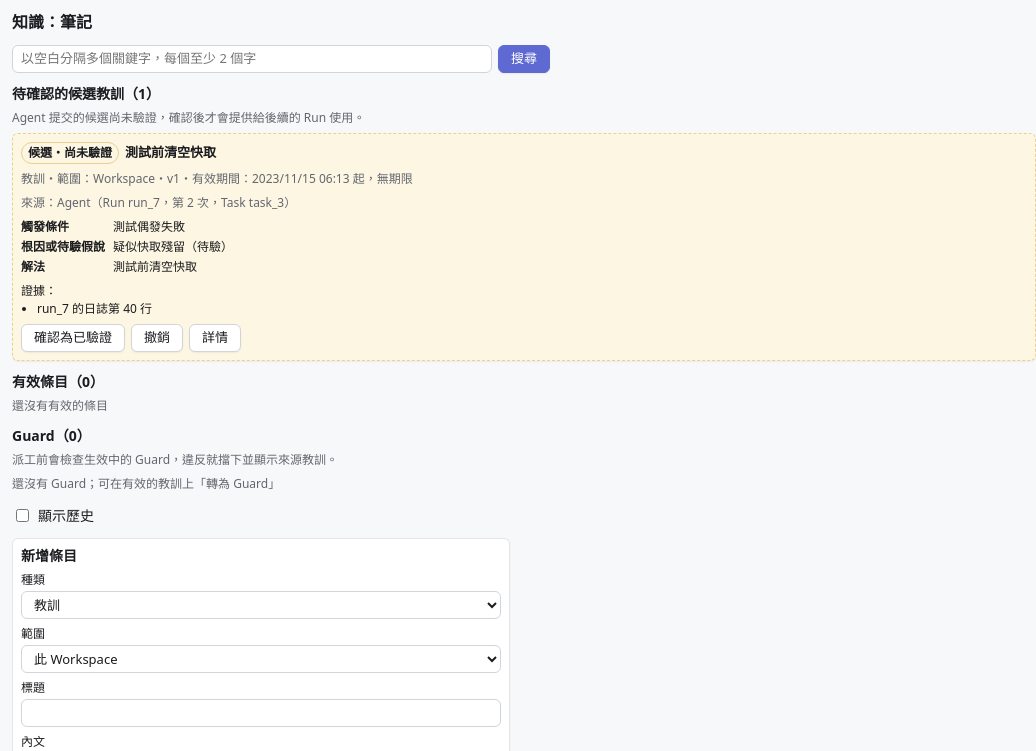
Scenario: 知識 › 別人已改過（revision 衝突）時提示已重新整理並重新讀取
This screenshot has width=1036, height=751.
Step 1. Click the button "確認為已驗證" → x=73, y=338, box [21,324,125,352]
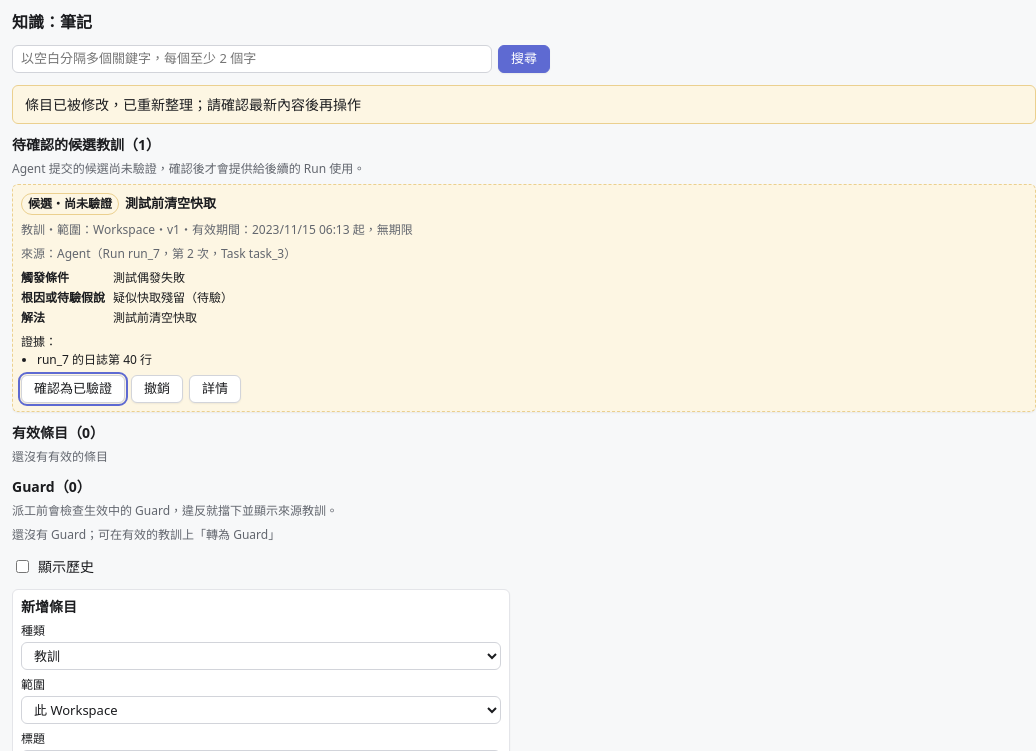
Now the message shows "已被修改，已重新整理", box [25,95,361,114]
